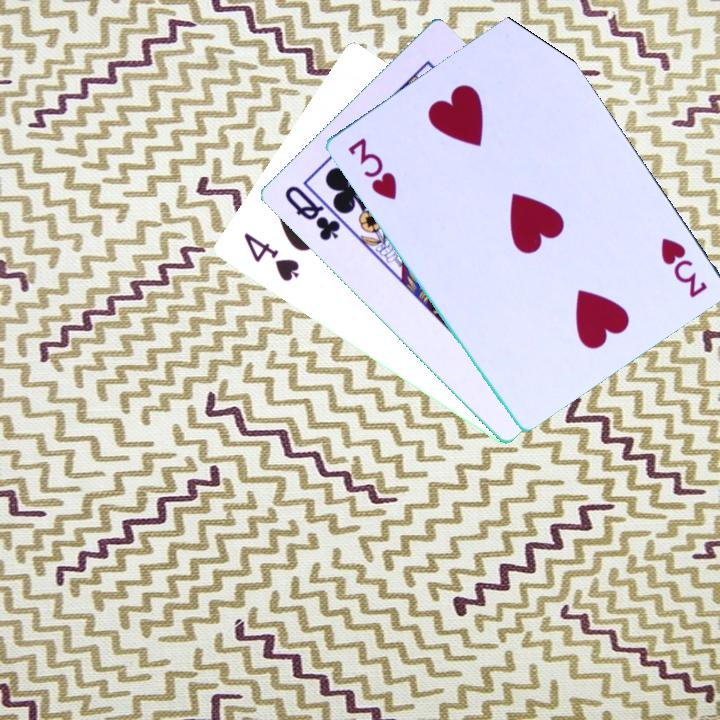3h: (343, 134, 400, 203), (656, 234, 710, 301)
4s: (239, 229, 302, 285)
Qc: (280, 179, 351, 244)
